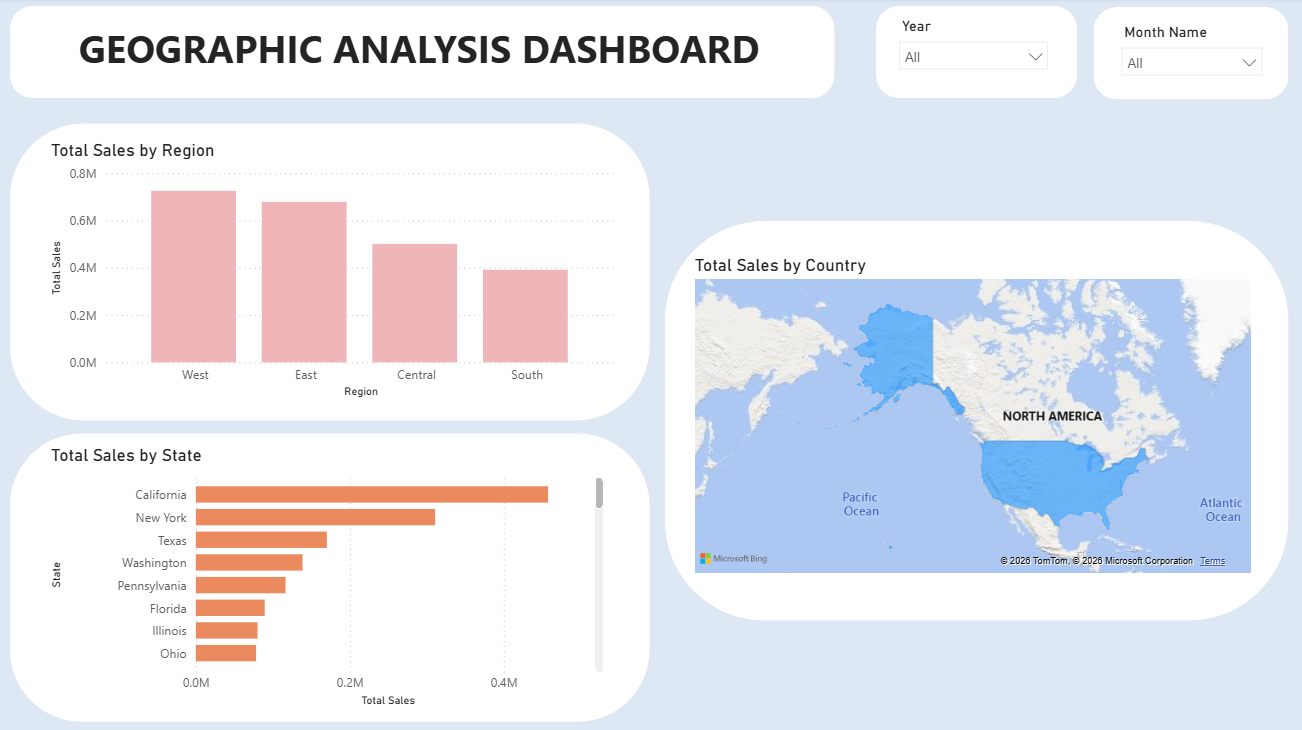

The dashboard page shown, as its layout file describes it:
{"tool":"powerbi","page":{"name":"Geographic Analysis","canvas":[1280,720],"ordinal":4},"visuals":[{"type":"shape","box":[1073.6,9.8,190.8,90.5],"z":0},{"type":"shape","box":[860.9,8.6,196.9,90.5],"z":1000},{"type":"shape","box":[654.2,218.9,610.2,391.3],"z":2000},{"type":"shape","box":[13.5,426.8,626.1,282.5],"z":3000},{"type":"shape","box":[13.5,123.5,626.1,291],"z":4000},{"type":"barChart","fields":{"Category":["Sample - Superstore.State"],"Y":["Sample - Superstore.Total Sales"]},"box":[48.9,437.8,550.3,261.7],"z":5000},{"type":"clusteredColumnChart","fields":{"Y":["Sample - Superstore.Total Sales"],"Category":["Sample - Superstore.Region"]},"box":[48.9,139.4,562.5,258],"z":6000},{"type":"filledMap","fields":{"Category":["Sample - Superstore.Country"]},"box":[678.7,251.9,553.9,316.7],"z":7000},{"type":"shape","box":[13.5,8.6,807.1,90.5],"z":8000},{"type":"textbox","box":[26.9,19.6,774.1,69.7],"z":9000},{"type":"slicer","fields":{"Values":["Date Table.Year"]},"box":[873.1,14.7,166.3,74.6],"z":10000},{"type":"slicer","fields":{"Values":["Date Table.Month Name"]},"box":[1090.8,20.8,157.7,68.5],"z":11000}]}

Visuals, with their boxes in screenshot pixels (x1, y1, x2, y2), scaled from the page's 1280x720 canvas onto the 1302x730 screenshot:
shape: 1092/10/1286/102
shape: 876/9/1076/100
shape: 665/222/1286/619
shape: 14/433/651/719
shape: 14/125/651/420
barChart - Sample - Superstore.State x Sample - Superstore.Total Sales: 50/444/609/709
clusteredColumnChart - Sample - Superstore.Total Sales x Sample - Superstore.Region: 50/141/622/403
filledMap - Sample - Superstore.Country: 690/255/1254/576
shape: 14/9/835/100
textbox: 27/20/815/91
slicer - Date Table.Year: 888/15/1057/91
slicer - Date Table.Month Name: 1110/21/1270/91
